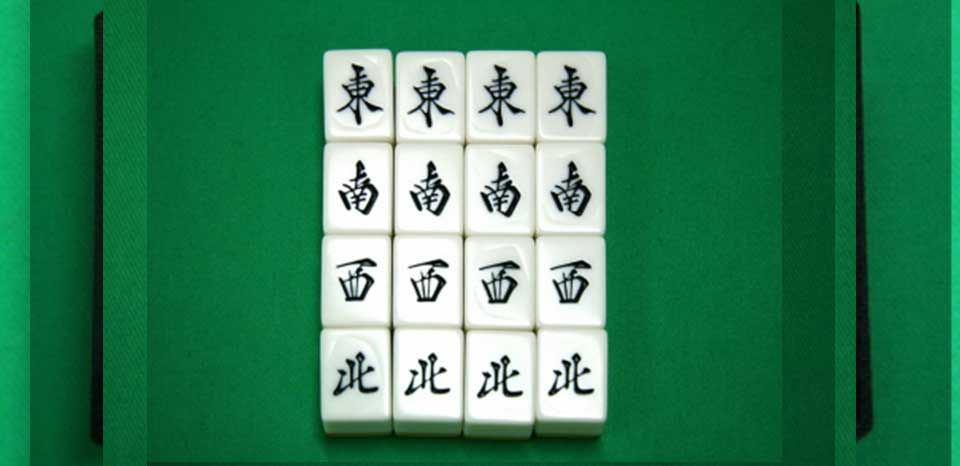honour_1: (325, 49, 390, 138)
honour_2: (395, 144, 463, 237)
honour_3: (465, 233, 536, 324)
honour_4: (395, 326, 468, 415)
